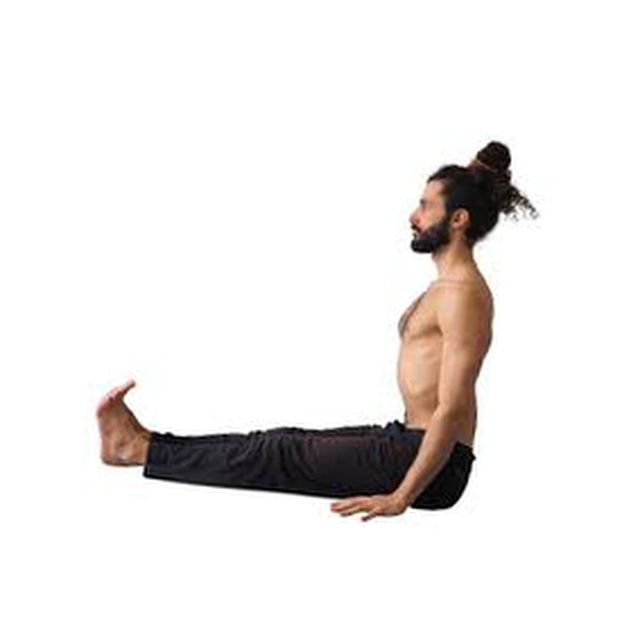Staff_Pose: (95, 139, 540, 523)
